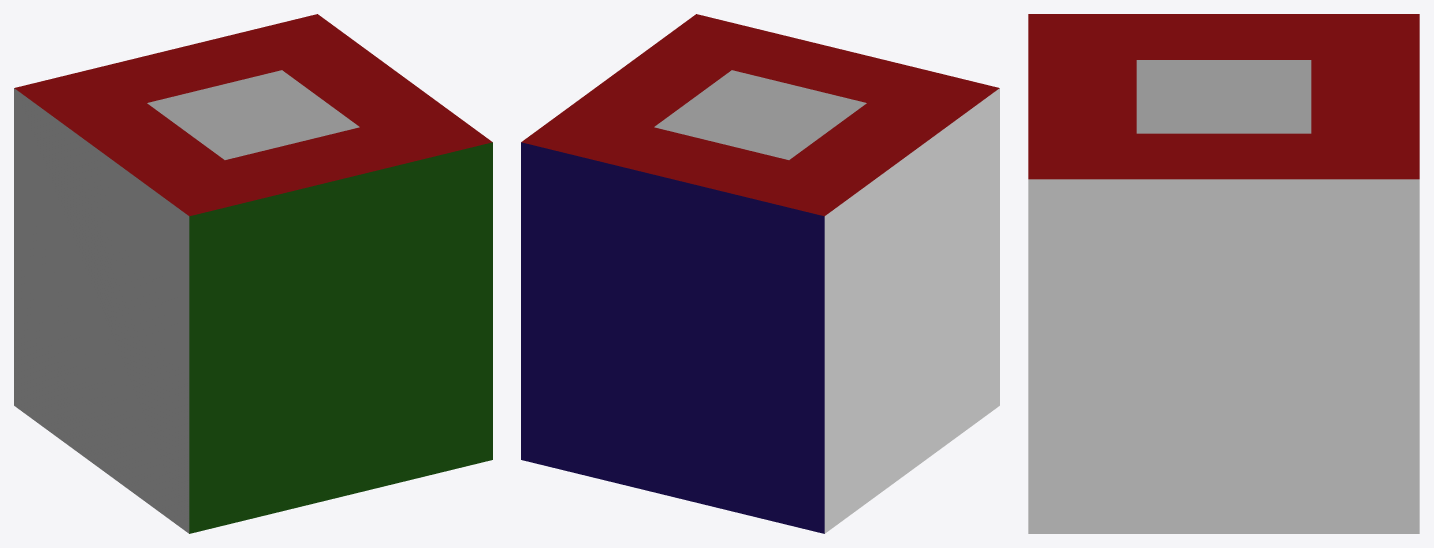
The model's file is scene-mirror-with-light.obj.
The picture shows the model from 3 angles, left to right: view 1: azimuth 30°, elevation 25°; view 2: azimuth 150°, elevation 25°; view 3: azimuth 270°, elevation 25°; orthographic projection. The views are drawn at different scales.
Parts seen in each view (by area): view 1: Cube.001; view 2: Cube.001; view 3: Cube.001.
Boxes of the visible parts, box(x1,y1,x2,y2) form: Cube.001: box(14, 14, 492, 533); Cube.001: box(521, 14, 999, 533); Cube.001: box(1028, 14, 1419, 533).
Size of the model in its own units: 2 by 2 by 2.
